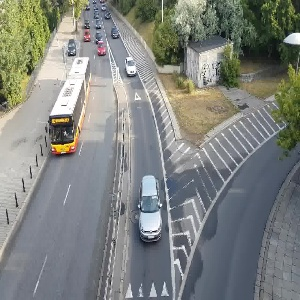bus: (46, 56, 97, 160)
car: (130, 169, 166, 250)
